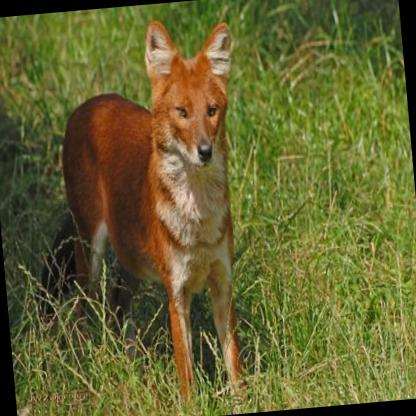dhole: (50, 16, 266, 414)
